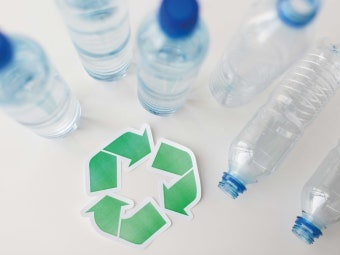plastic: (216, 38, 340, 198)
